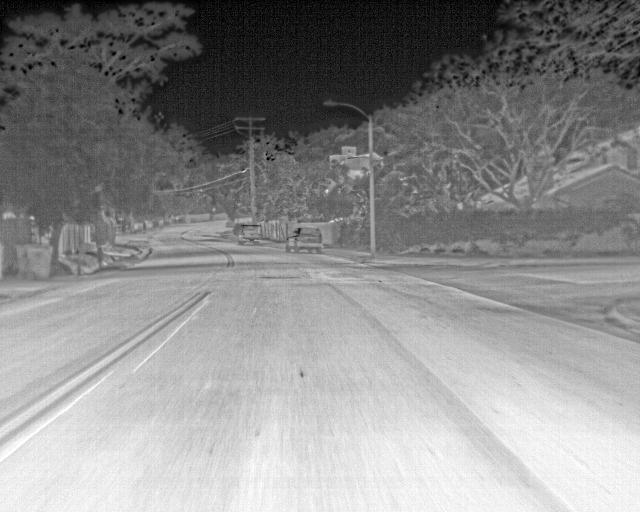car: (285, 225, 325, 253), (234, 221, 263, 245)
